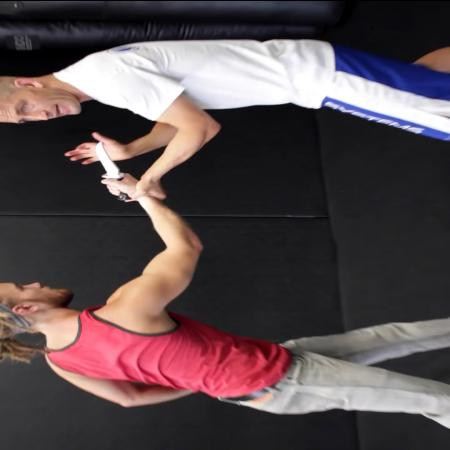long weapon: (87, 136, 140, 204)
